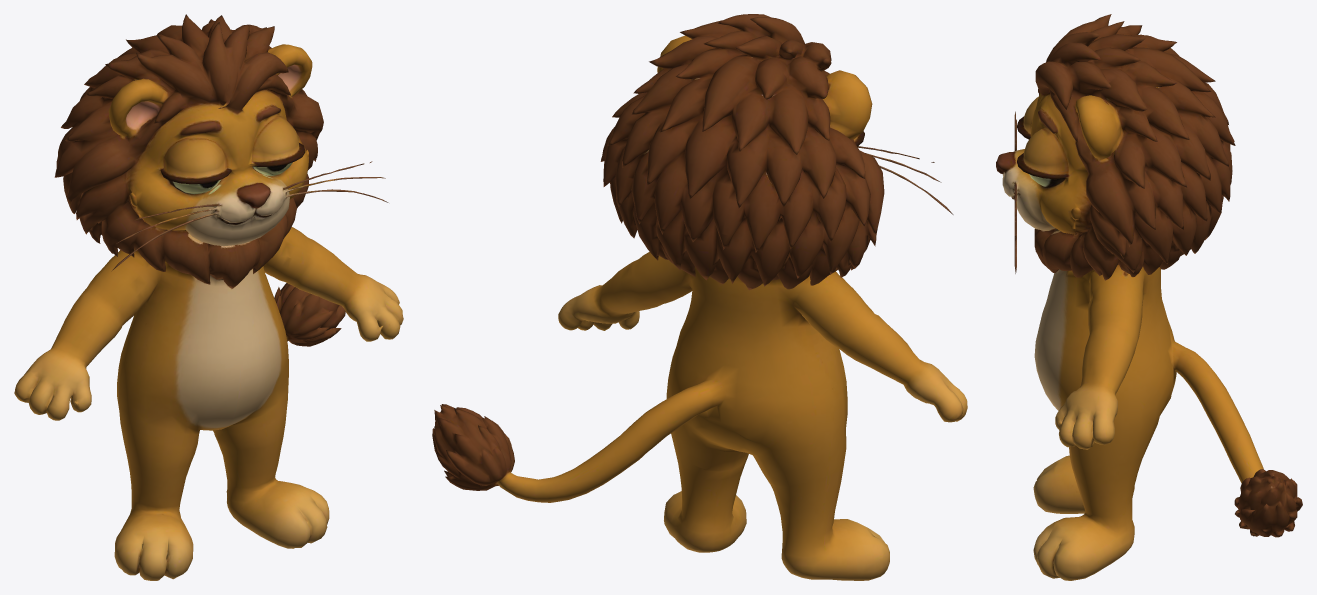
File: mitsi-lion-3d.glb
3 views of the same model, side by side, from view 1: azimuth 30°, elevation 25°; view 2: azimuth 150°, elevation 25°; view 3: azimuth 270°, elevation 25° (orthographic). The views are drawn at different scales.
Parts seen in each view (by area): view 1: tripo_node_1c5dd826-0fd0-40a7-9de3-2b640d0f5bca; view 2: tripo_node_1c5dd826-0fd0-40a7-9de3-2b640d0f5bca; view 3: tripo_node_1c5dd826-0fd0-40a7-9de3-2b640d0f5bca.
Boxes of the visible parts, x1,y1,x2,y2 form: tripo_node_1c5dd826-0fd0-40a7-9de3-2b640d0f5bca: (14, 14, 403, 580); tripo_node_1c5dd826-0fd0-40a7-9de3-2b640d0f5bca: (432, 14, 967, 580); tripo_node_1c5dd826-0fd0-40a7-9de3-2b640d0f5bca: (996, 14, 1302, 580).
Bounding box in the file's own units: 0.8208 × 0.9776 × 0.5338.
Materials: 1 (1 with a texture image).
